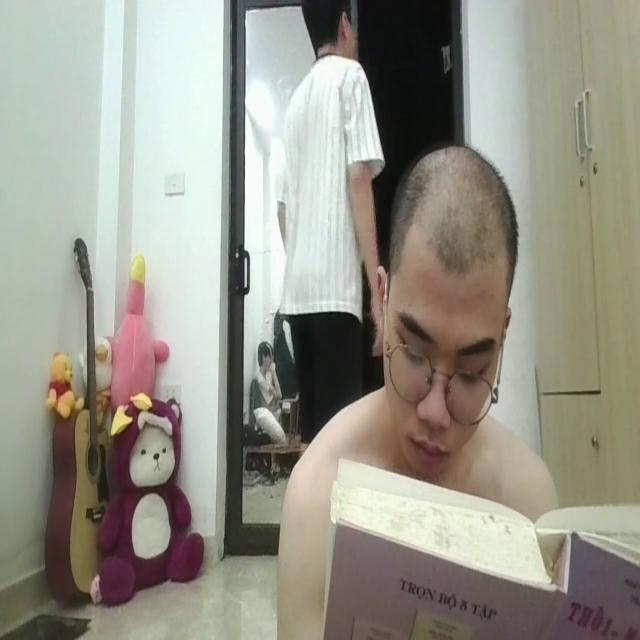book: (312, 450, 640, 640)
extra_person: (271, 47, 388, 448), (249, 330, 287, 435)
student: (284, 135, 560, 640)
